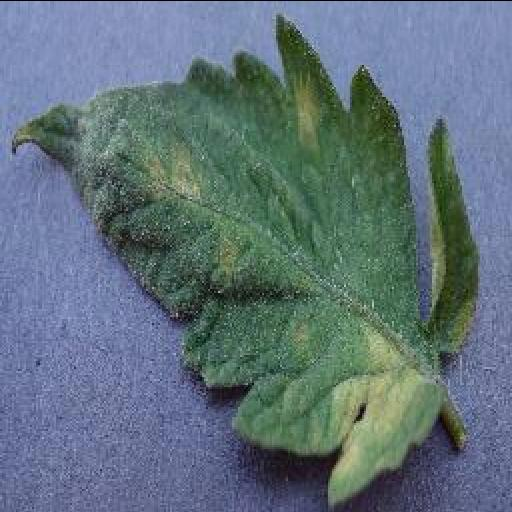disease_tomato: (6, 10, 482, 502)
